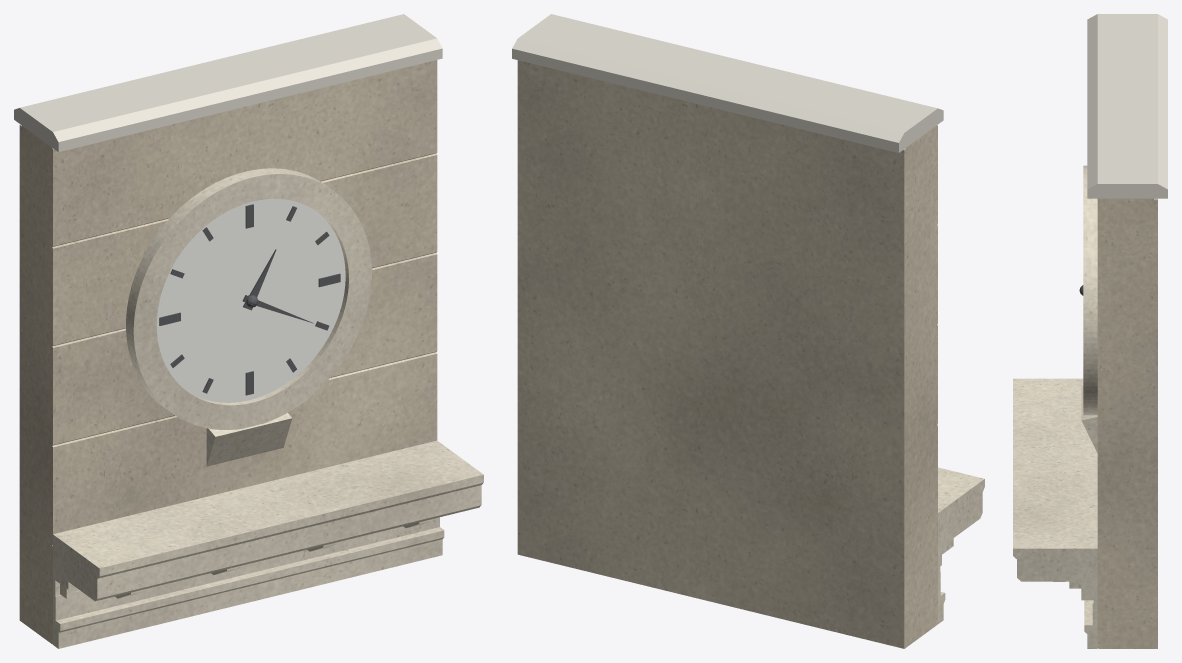
Rendered from pv_attic_clock.glb.
The picture shows the model from 3 angles, left to right: view 1: azimuth 30°, elevation 25°; view 2: azimuth 150°, elevation 25°; view 3: azimuth 270°, elevation 25°; orthographic projection. The views are drawn at different scales.
Parts seen in each view (by area): view 1: pv_attic_clock_ashlar, pv_attic_clock_trim, pv_attic_clock_clock, pv_attic_clock_coping, pv_attic_clock_iron; view 2: pv_attic_clock_ashlar, pv_attic_clock_coping, pv_attic_clock_trim; view 3: pv_attic_clock_ashlar, pv_attic_clock_trim, pv_attic_clock_coping.
Boxes of the visible parts, <box> form: pv_attic_clock_ashlar: <box>19,60,437,644</box>; pv_attic_clock_trim: <box>53,168,483,648</box>; pv_attic_clock_clock: <box>156,199,345,402</box>; pv_attic_clock_coping: <box>14,14,442,152</box>; pv_attic_clock_iron: <box>159,204,340,395</box>; pv_attic_clock_ashlar: <box>517,60,937,648</box>; pv_attic_clock_coping: <box>512,14,943,152</box>; pv_attic_clock_trim: <box>937,467,984,623</box>; pv_attic_clock_ashlar: <box>1097,198,1157,648</box>; pv_attic_clock_trim: <box>1013,165,1097,648</box>; pv_attic_clock_coping: <box>1087,14,1167,198</box>.
Size of the model in its own units: 2 by 2.55 by 0.77.
Materials: 5 (2 with a texture image).
